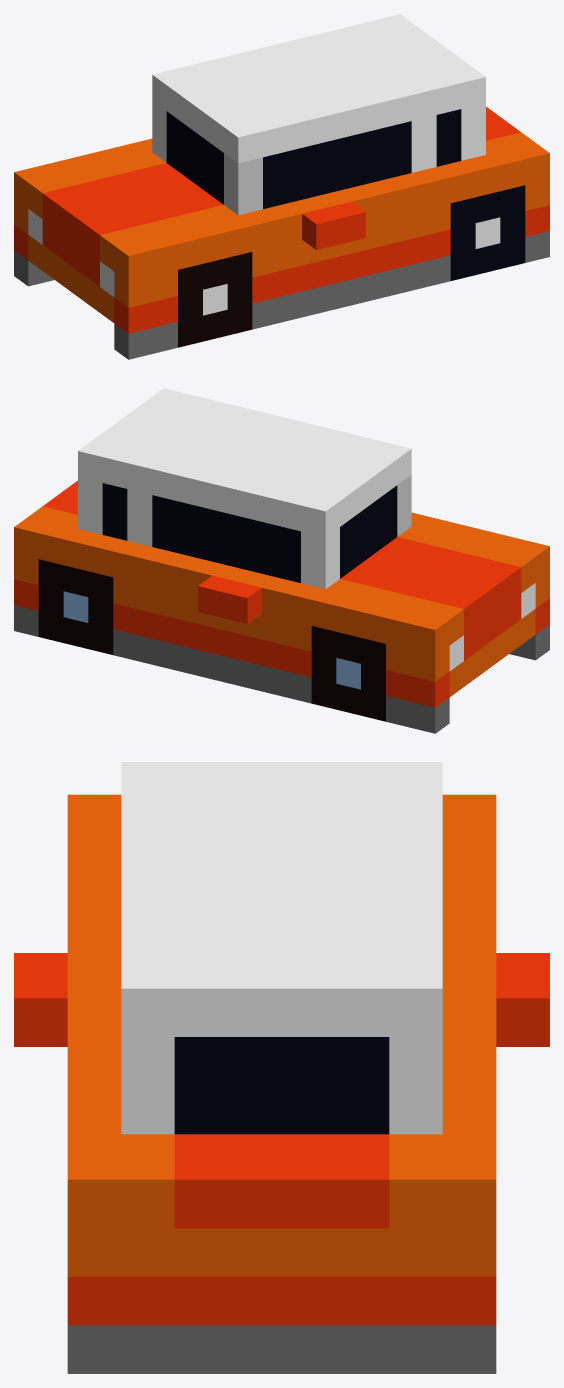
The model's file is CrossyRoadCar.vox.obj.
3 renders of one model, top to bottom at view 1: azimuth 30°, elevation 25°; view 2: azimuth 150°, elevation 25°; view 3: azimuth 270°, elevation 25°, orthographic. The views are drawn at different scales.
Bounding box in the file's own units: 1.7 × 0.7 × 1.
Materials: 1 (1 with a texture image).
